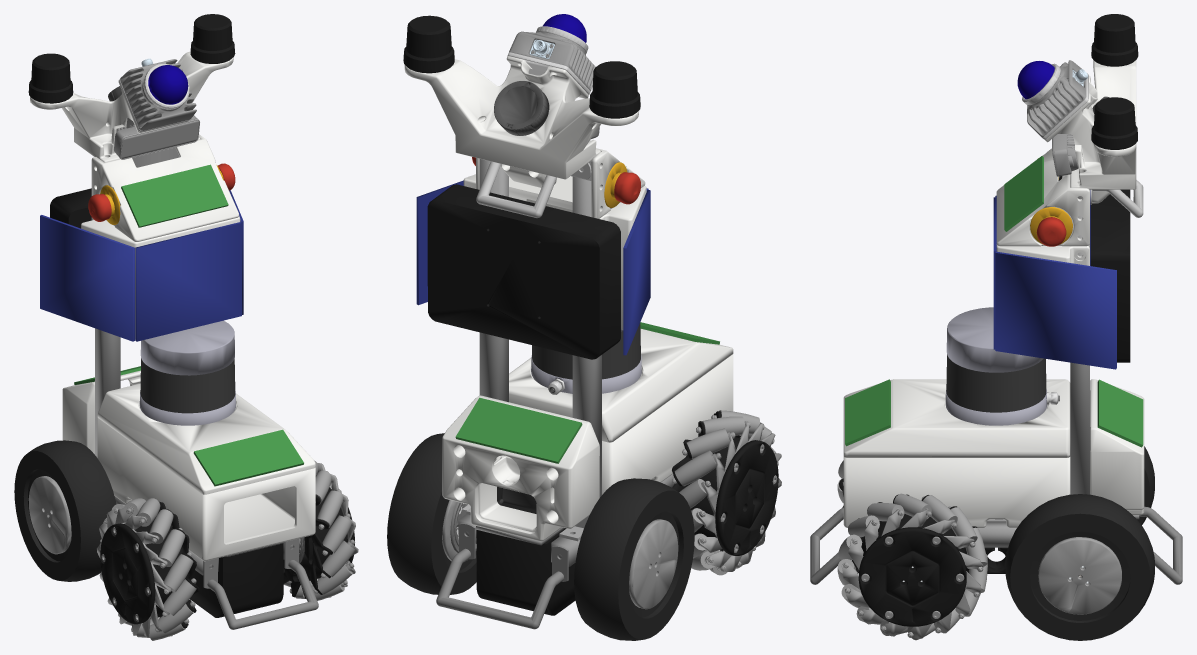
File: cub4-comp.obj
3 views of the same model, side by side, from view 1: azimuth 30°, elevation 25°; view 2: azimuth 150°, elevation 25°; view 3: azimuth 270°, elevation 25° (orthographic). The views are drawn at different scales.
Parts seen in each view (by area): view 1: Cub4-All-001; view 2: Cub4-All-001; view 3: Cub4-All-001.
Part boxes in pixels (box(x1,y1,x2,y2)): Cub4-All-001: box(14, 14, 358, 640); Cub4-All-001: box(387, 14, 781, 640); Cub4-All-001: box(810, 14, 1182, 640).
Size of the model in its own units: 2.54 by 5.95 by 3.78.
